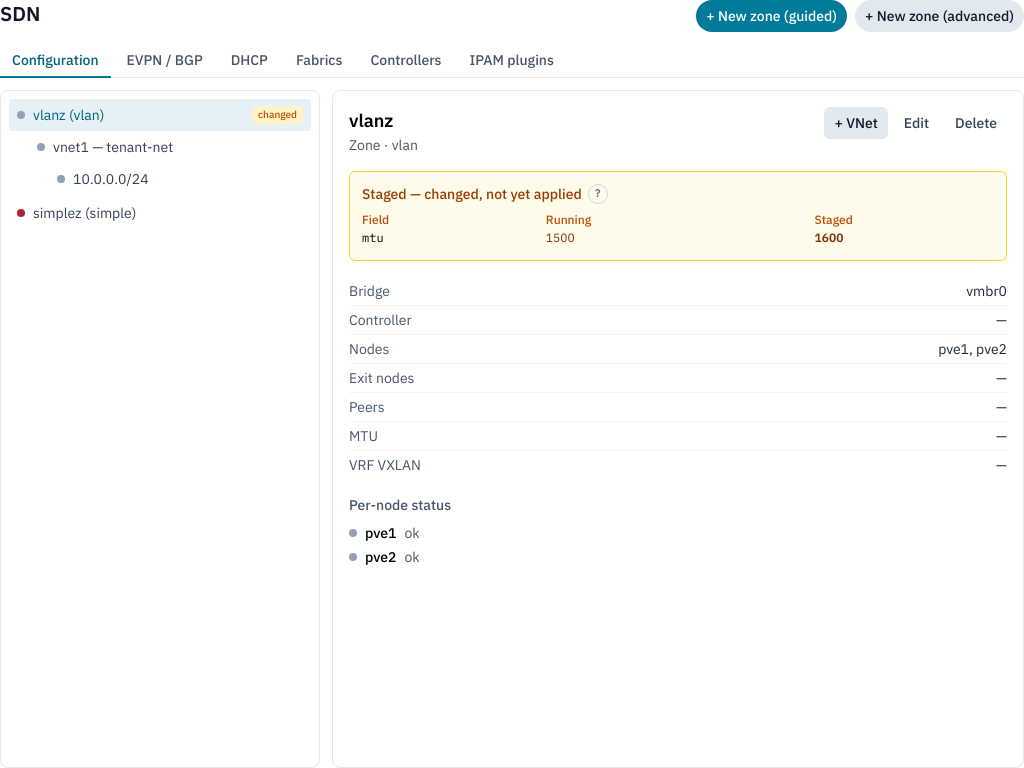
SdnPage › switching to the EVPN / BGP tab renders the EVPN view instead of the configuration tree
The width and height of the screenshot is (1024, 768).
Expected: the text "vlanz (vlan)" is shown, [33,105,104,125]
Click the tab "EVPN / BGP": (165, 61) [115,44,215,78]
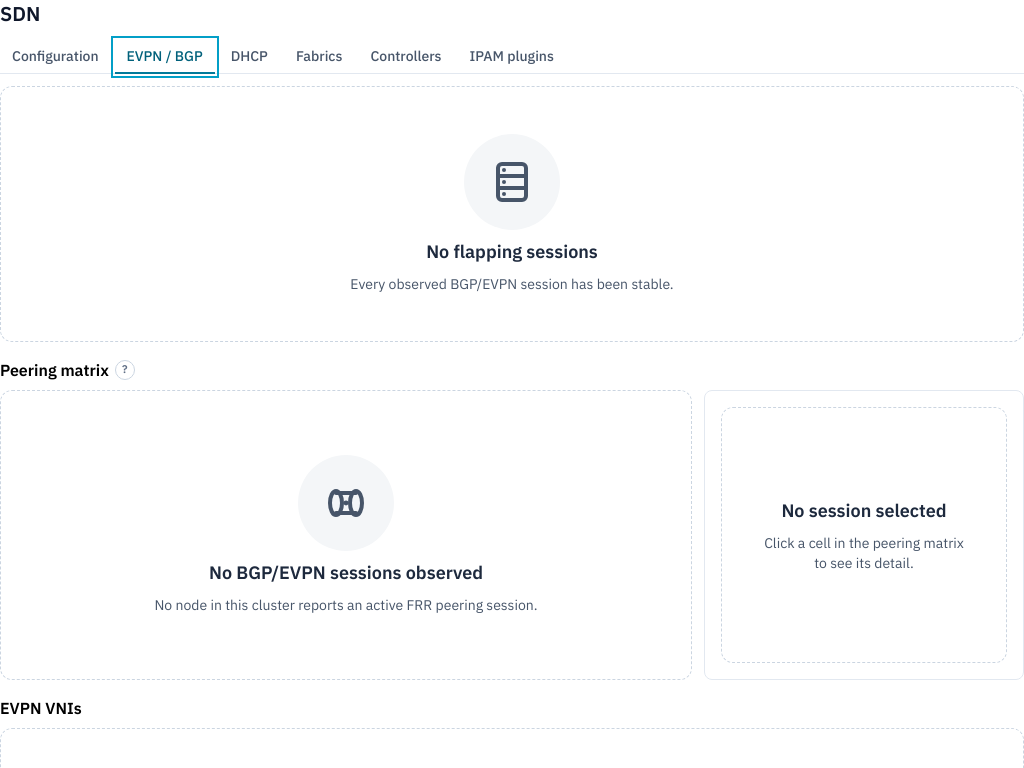
Now the heading "Peering matrix ?" is shown, box [0,360,135,380]
Now the list item "vlanz (vlan)" is gone
Click the tab "Configuration": (55, 57) [0,40,111,74]
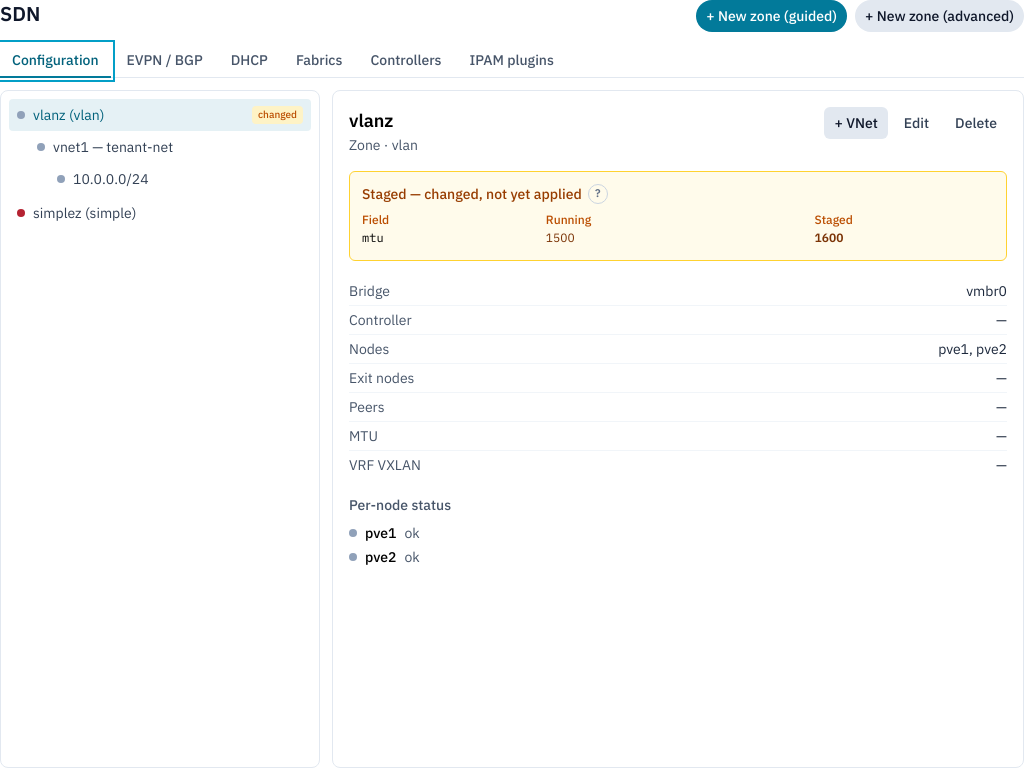
Now the text "vlanz (vlan)" is shown, box [33,105,104,125]
